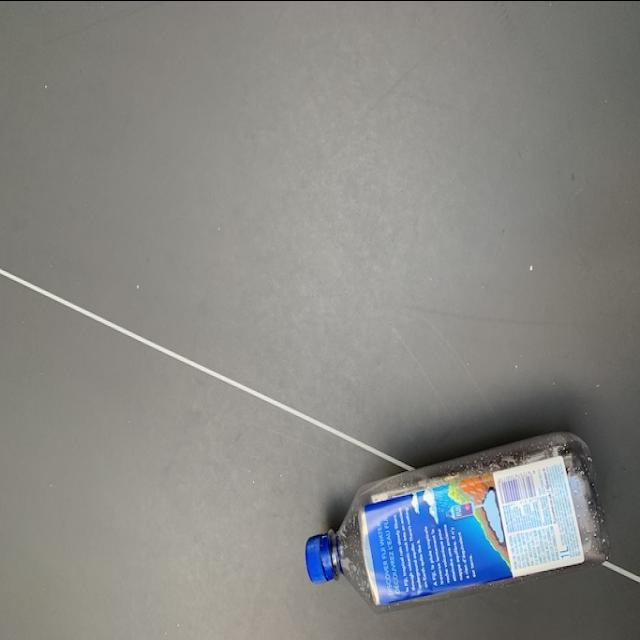litter: (304, 422, 614, 616)
